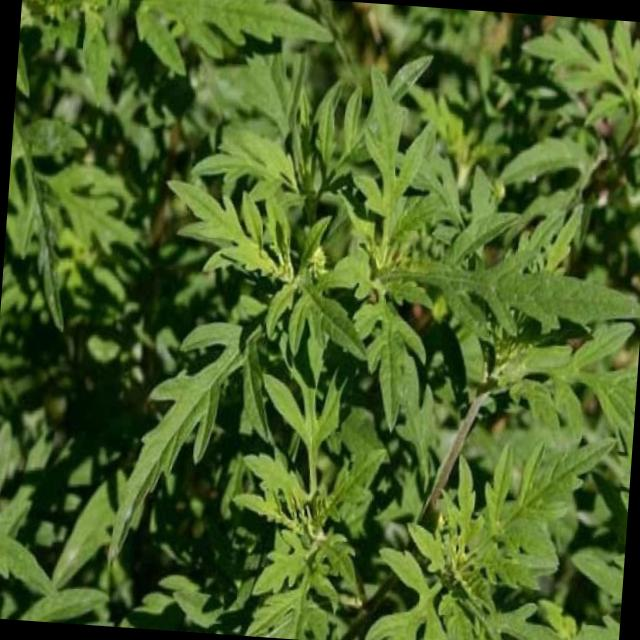ambrosia: (184, 79, 632, 431)
